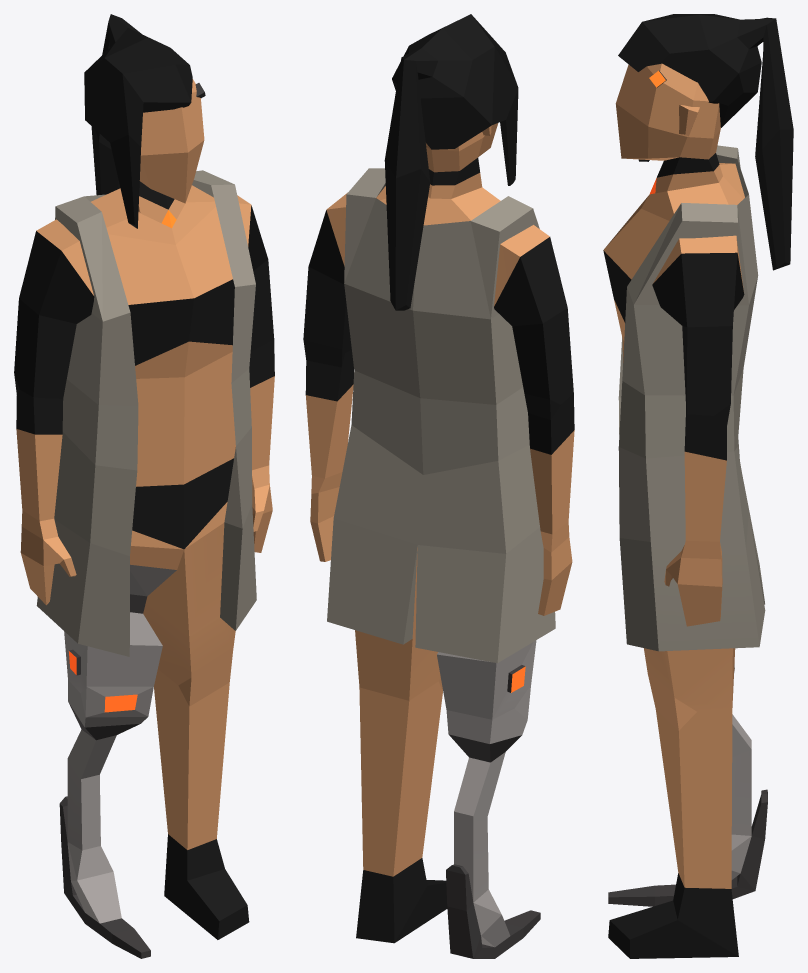
The model's file is people_woman-scifi-prosthetic-leg.fbx.
The picture shows the model from 3 angles, left to right: view 1: azimuth 30°, elevation 25°; view 2: azimuth 150°, elevation 25°; view 3: azimuth 270°, elevation 25°; orthographic projection. The views are drawn at different scales.
Parts seen in each view (by area): view 1: people_woman_scifi_prosthetic_leg; view 2: people_woman_scifi_prosthetic_leg; view 3: people_woman_scifi_prosthetic_leg.
Part boxes in pixels (bbox=[...]): people_woman_scifi_prosthetic_leg: bbox=[14, 14, 274, 958]; people_woman_scifi_prosthetic_leg: bbox=[303, 14, 574, 958]; people_woman_scifi_prosthetic_leg: bbox=[603, 14, 793, 958].
Bounding box in the file's own units: 57.76 × 200 × 37.94.
